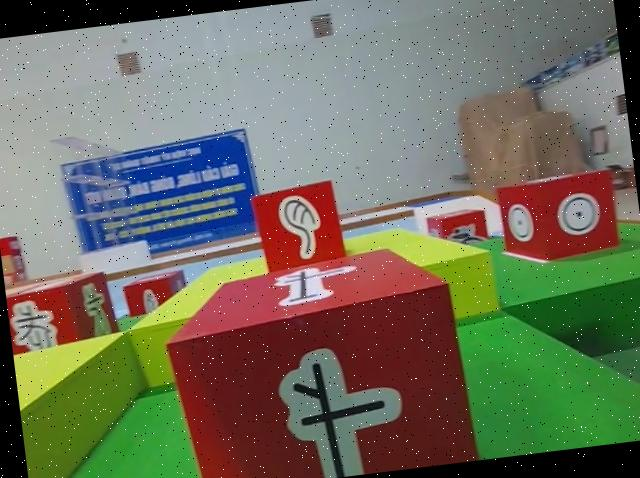R1: (423, 204, 491, 256)
R2 Fake: (3, 266, 123, 359), (247, 176, 344, 276)
R2 Real: (157, 235, 480, 478), (493, 164, 622, 267)
